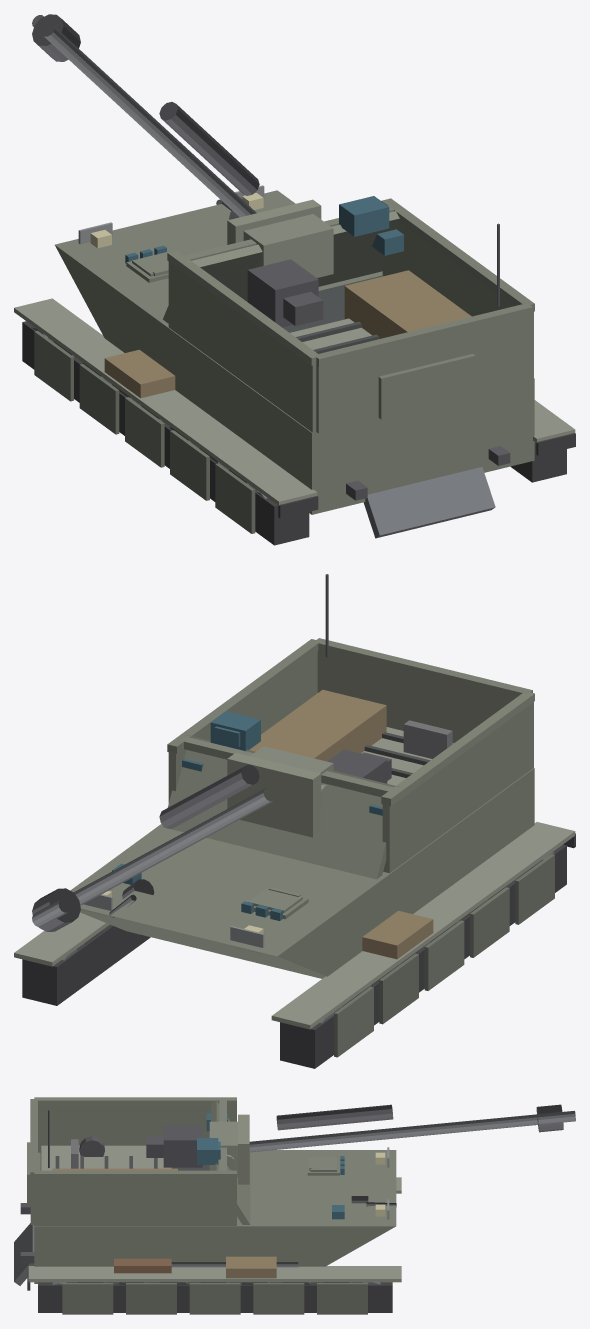
Rendered from western_artillery.glb.
3 renders of one model, top to bottom at view 1: azimuth 30°, elevation 25°; view 2: azimuth 150°, elevation 25°; view 3: azimuth 270°, elevation 25°, orthographic. The views are drawn at different scales.
Visible parts, largest first — view 1: hull, casemate_rear, casemate_l, skirt_l, fender_l, casemate_rim, spade, ammo_racks, turret, casemate_front, casemate_r, casemate_door (+14 smaller); view 2: hull, casemate_front, casemate_l, fender_l, skirt_l, casemate_rim, casemate_rear, turret, ammo_racks, track_r, track_l, barrel (+12 smaller); view 3: hull, casemate_r, skirt_r, casemate_l, fender_r, casemate_rim, barrel, track_r, engine_deck, breech, recoil, turret (+11 smaller).
Part boxes in pixels (box(x1,y1,x2,y2)): hull: box(55, 190, 534, 514); casemate_rear: box(316, 315, 532, 433); casemate_l: box(168, 262, 316, 432); skirt_l: box(34, 330, 255, 533); fender_l: box(14, 298, 317, 505); casemate_rim: box(167, 198, 534, 366); spade: box(363, 467, 495, 538); ammo_racks: box(344, 270, 471, 338); turret: box(227, 199, 333, 277); casemate_front: box(163, 210, 400, 323); casemate_r: box(382, 222, 533, 378); casemate_door: box(378, 353, 475, 419); hull: box(70, 768, 534, 978); casemate_front: box(163, 735, 400, 879); casemate_l: box(382, 702, 533, 873); fender_l: box(271, 822, 575, 1029); skirt_l: box(334, 854, 554, 1057); casemate_rim: box(167, 638, 534, 806); casemate_rear: box(317, 651, 514, 743); turret: box(227, 746, 333, 837); ammo_racks: box(249, 689, 386, 761); track_r: box(22, 924, 150, 1005); track_l: box(280, 844, 566, 1068); barrel: box(32, 788, 272, 926); hull: box(34, 1150, 396, 1283); casemate_r: box(34, 1179, 236, 1225); skirt_r: box(62, 1283, 367, 1314); casemate_l: box(38, 1106, 236, 1152); fender_r: box(28, 1266, 401, 1282); casemate_rim: box(30, 1097, 236, 1179); barrel: box(249, 1110, 575, 1152); track_r: box(38, 1282, 392, 1312); engine_deck: box(41, 1145, 171, 1170); breech: box(146, 1125, 202, 1167); recoil: box(276, 1104, 393, 1130); turret: box(209, 1114, 249, 1184).
Size of the model in its own units: 5.04 by 4.19 by 11.49.
